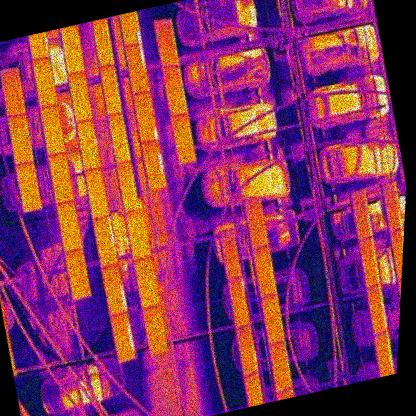Diode: (99, 264, 131, 318), (129, 90, 161, 144), (121, 43, 153, 95), (109, 310, 140, 362), (91, 215, 122, 267), (139, 140, 170, 191)
Hotspot: (74, 119, 105, 170)
Normal: (132, 255, 165, 312), (4, 113, 38, 165), (250, 244, 281, 301), (159, 64, 191, 119), (62, 248, 94, 302), (151, 16, 183, 70), (37, 104, 70, 156), (54, 199, 86, 252), (45, 151, 77, 204), (140, 305, 172, 357), (81, 168, 113, 220), (13, 160, 45, 212), (266, 342, 298, 394), (123, 209, 154, 262), (66, 70, 97, 123), (31, 57, 62, 109), (113, 160, 143, 213), (169, 113, 200, 164), (347, 188, 376, 242), (0, 66, 30, 118), (242, 197, 271, 250), (364, 284, 393, 337), (260, 293, 289, 346), (356, 236, 384, 290), (105, 111, 134, 163), (96, 64, 125, 116), (225, 277, 253, 329), (234, 324, 262, 376), (216, 228, 245, 278), (89, 18, 118, 68), (371, 329, 398, 377), (380, 182, 406, 231), (386, 225, 404, 277), (393, 275, 402, 328)
